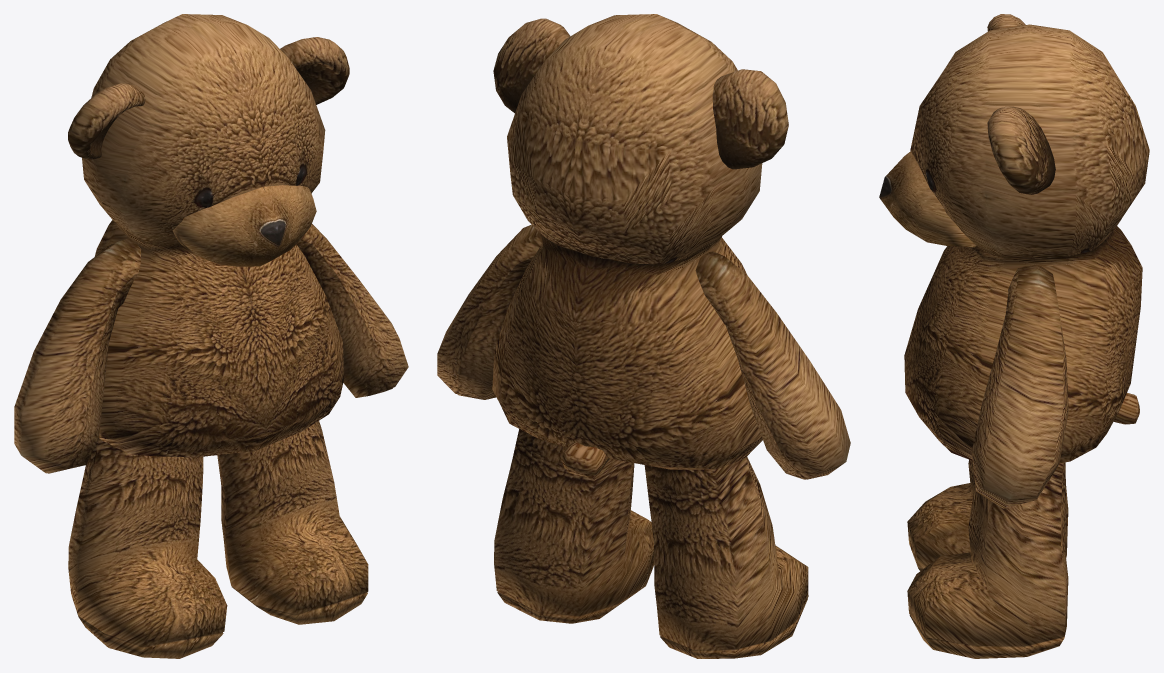
Rendered from bear_glb.glb.
3 views of the same model, side by side, from view 1: azimuth 30°, elevation 25°; view 2: azimuth 150°, elevation 25°; view 3: azimuth 270°, elevation 25° (orthographic). The views are drawn at different scales.
Visible parts, largest first — view 1: Cube; view 2: Cube; view 3: Cube.
Boxes of the visible parts, box(x1,y1,x2,y2) form: Cube: box(14, 14, 408, 658); Cube: box(437, 14, 850, 658); Cube: box(879, 14, 1149, 658).
Size of the model in its own units: 0.3904 by 0.5676 by 0.2421.
1 material, 1 textured.
